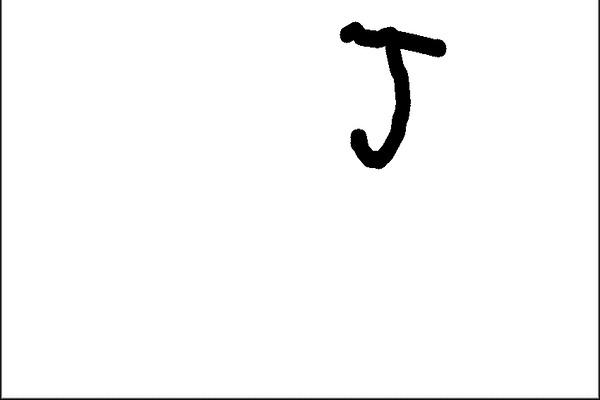J: (330, 18, 453, 174)
